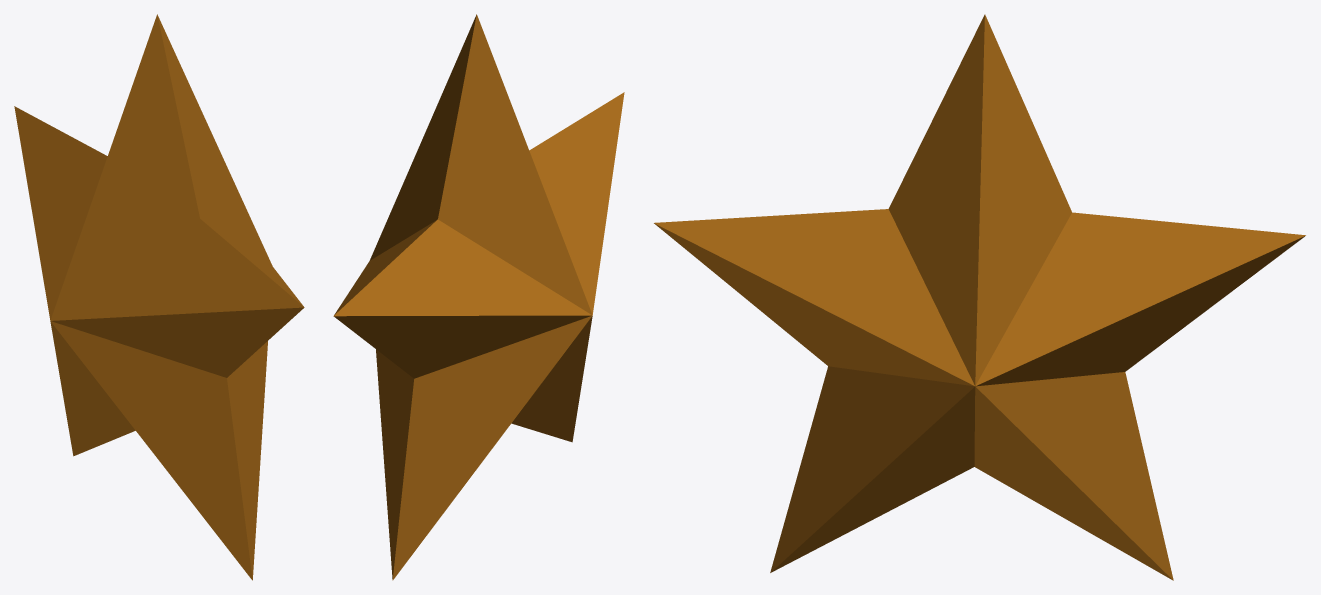
The model's file is Startree.dae.
3 views of the same model, side by side, from view 1: azimuth 30°, elevation 25°; view 2: azimuth 150°, elevation 25°; view 3: azimuth 270°, elevation 25° (orthographic). The views are drawn at different scales.
Visible parts, largest first — view 1: Circle; view 2: Circle; view 3: Circle.
Part boxes in pixels (x1=…): Circle: x1=14, y1=14, x2=304, y2=580; Circle: x1=333, y1=14, x2=624, y2=580; Circle: x1=654, y1=14, x2=1305, y2=580.
Size of the model in its own units: 0.8417 by 1.9 by 1.82.
